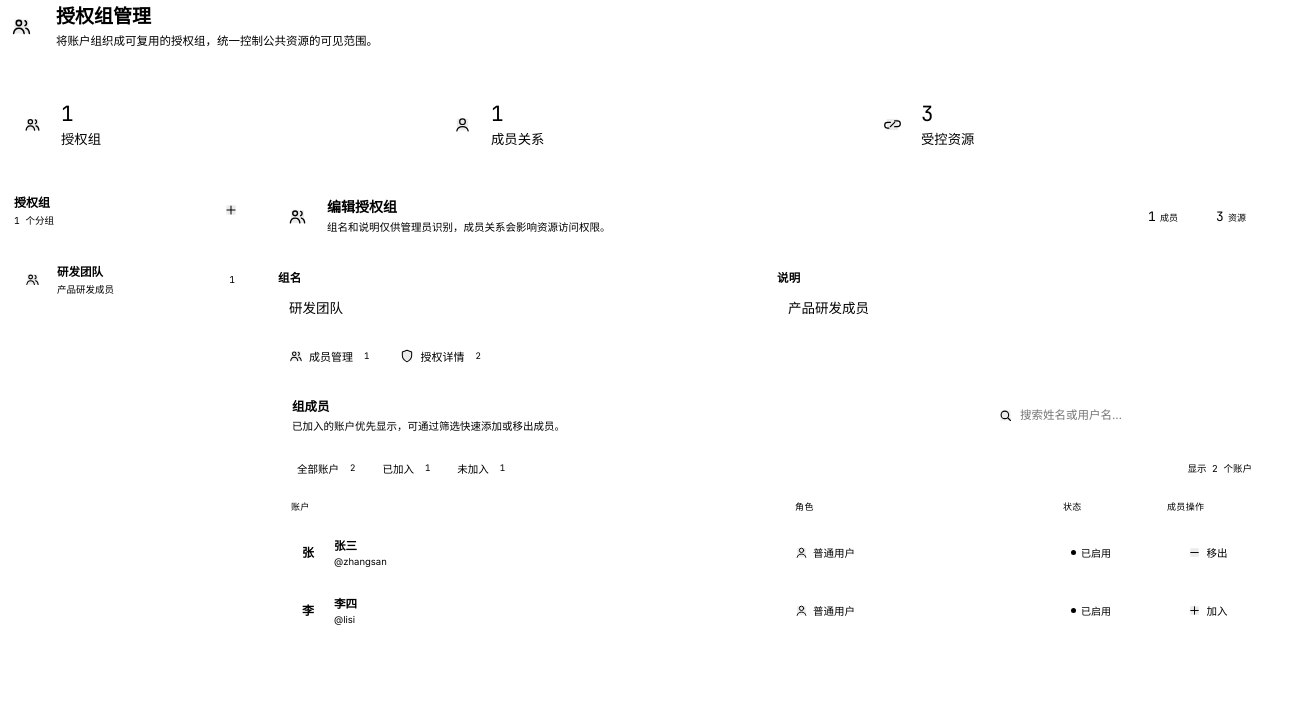
Test case: AccessGroupManagement › shows resources and category defaults granted to the group
The width and height of the screenshot is (1292, 720).
What coordinates should you click on to do the following:
click the tab "授权详情 2"
I would click on:
 (443, 356)
Its box is [389, 339, 497, 373].
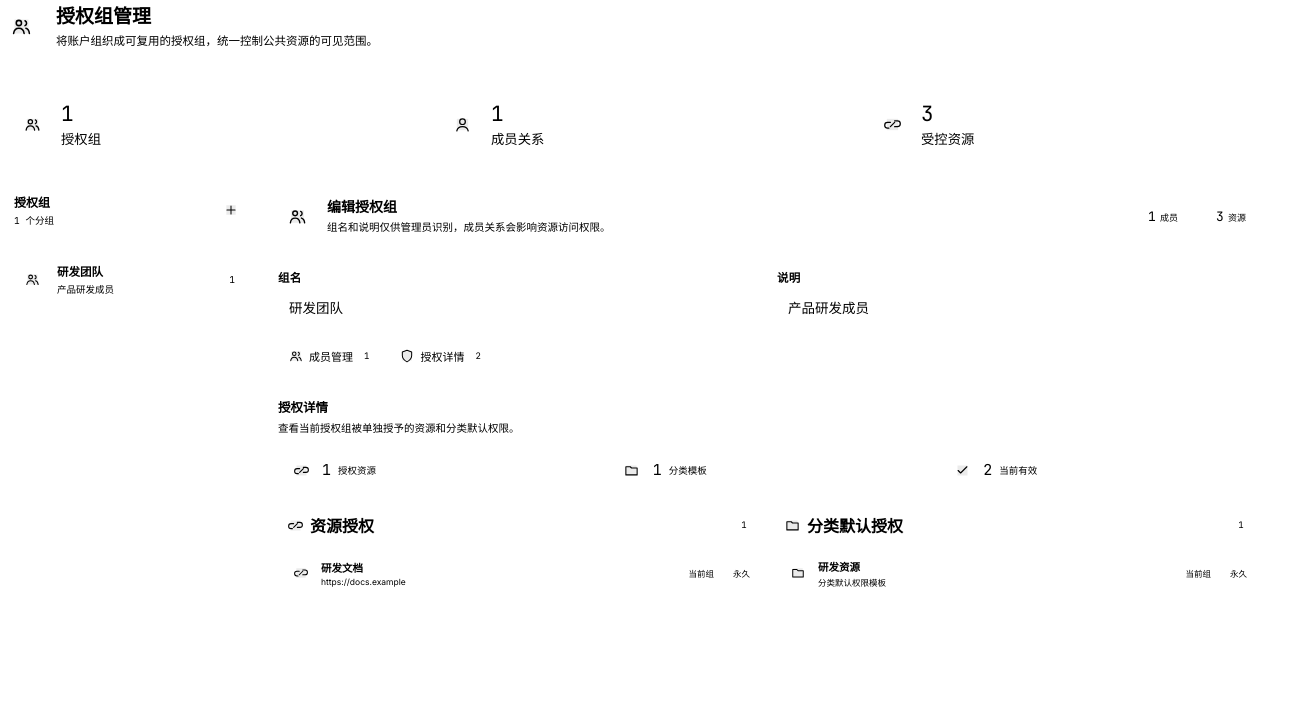
Expected: the text "研发文档" is shown, [321, 562, 363, 574]
Expected: the text "研发资源" is shown, [818, 560, 860, 574]
Expected: the text "当前组" is shown 2 times, [688, 569, 714, 579]; [1186, 569, 1211, 579]
